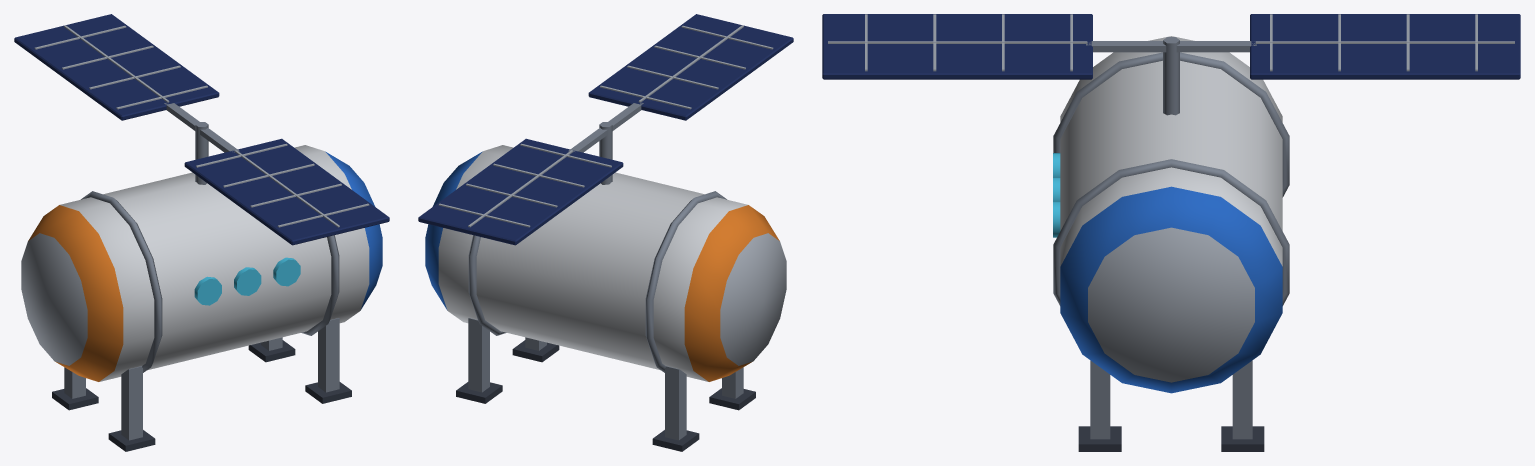
Rendered from space-deco2.glb.
3 views of the same model, side by side, from view 1: azimuth 30°, elevation 25°; view 2: azimuth 150°, elevation 25°; view 3: azimuth 270°, elevation 25° (orthographic). The views are drawn at different scales.
Parts seen in each view (by area): view 1: space-deco2; view 2: space-deco2; view 3: space-deco2.
Boxes of the visible parts, x1,y1,x2,y2 form: space-deco2: (14, 14, 389, 451); space-deco2: (418, 14, 793, 451); space-deco2: (822, 14, 1520, 451).
Size of the model in its own units: 3.2 by 2.65 by 4.9.
